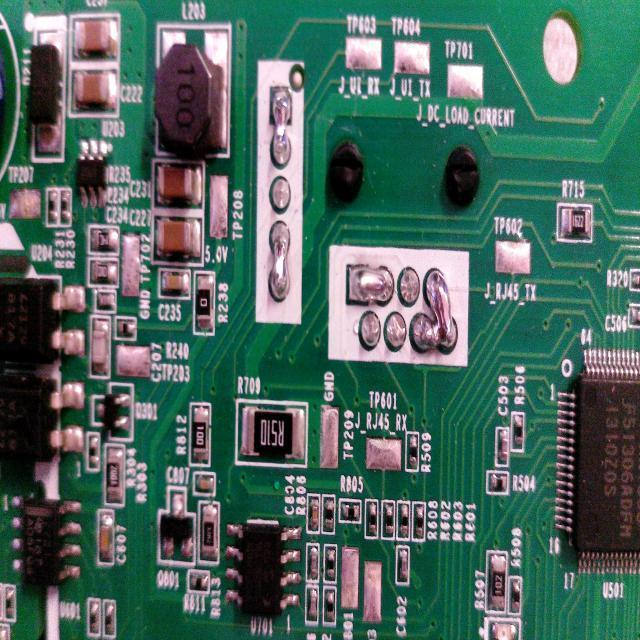Soldering shorted: (414, 262, 459, 354), (345, 260, 393, 308), (270, 86, 295, 171), (270, 217, 292, 304)
